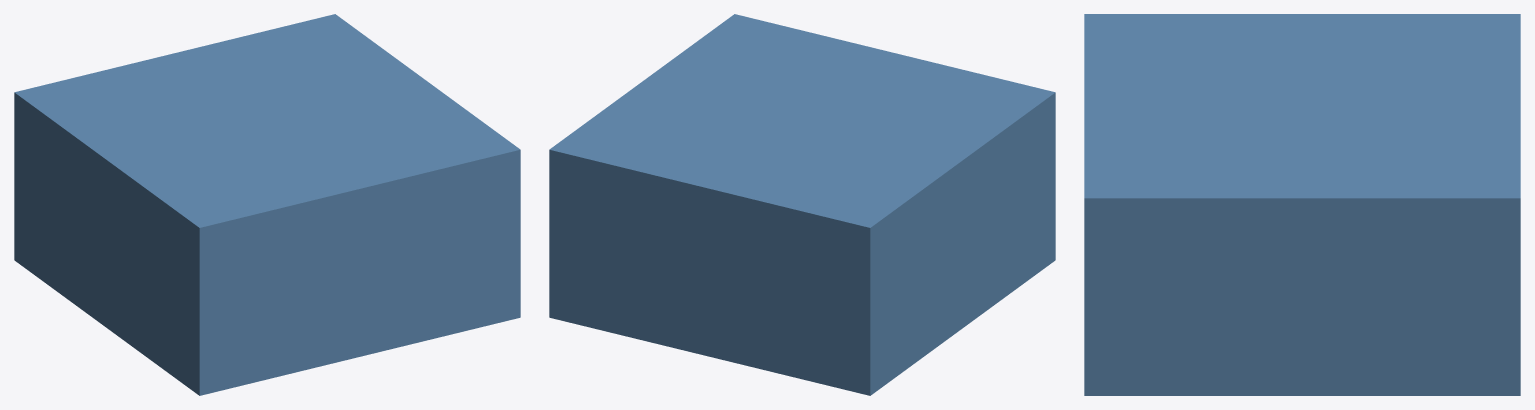
Rendered from Spawn_Half.glb.
The picture shows the model from 3 angles, left to right: view 1: azimuth 30°, elevation 25°; view 2: azimuth 150°, elevation 25°; view 3: azimuth 270°, elevation 25°; orthographic projection. The views are drawn at different scales.
Parts seen in each view (by area): view 1: Spawn_Half_body; view 2: Spawn_Half_body; view 3: Spawn_Half_body.
Boxes of the visible parts, x1=… form: Spawn_Half_body: x1=14, y1=14, x2=520, y2=395; Spawn_Half_body: x1=549, y1=14, x2=1055, y2=395; Spawn_Half_body: x1=1084, y1=14, x2=1520, y2=395.
Size of the model in its own units: 1 by 0.5 by 1.
